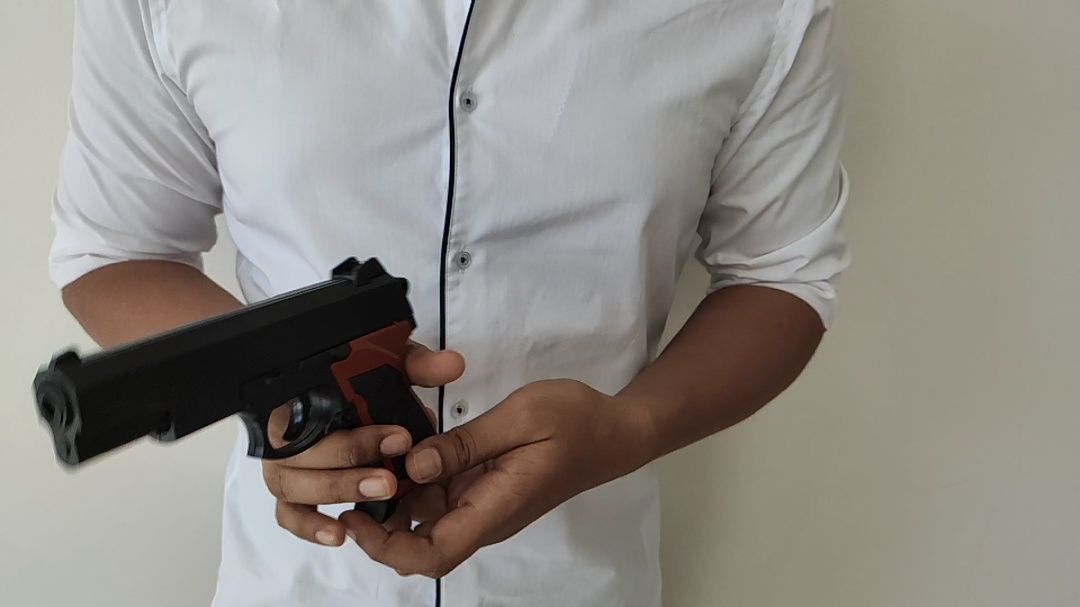gun: (242, 105, 855, 572)
